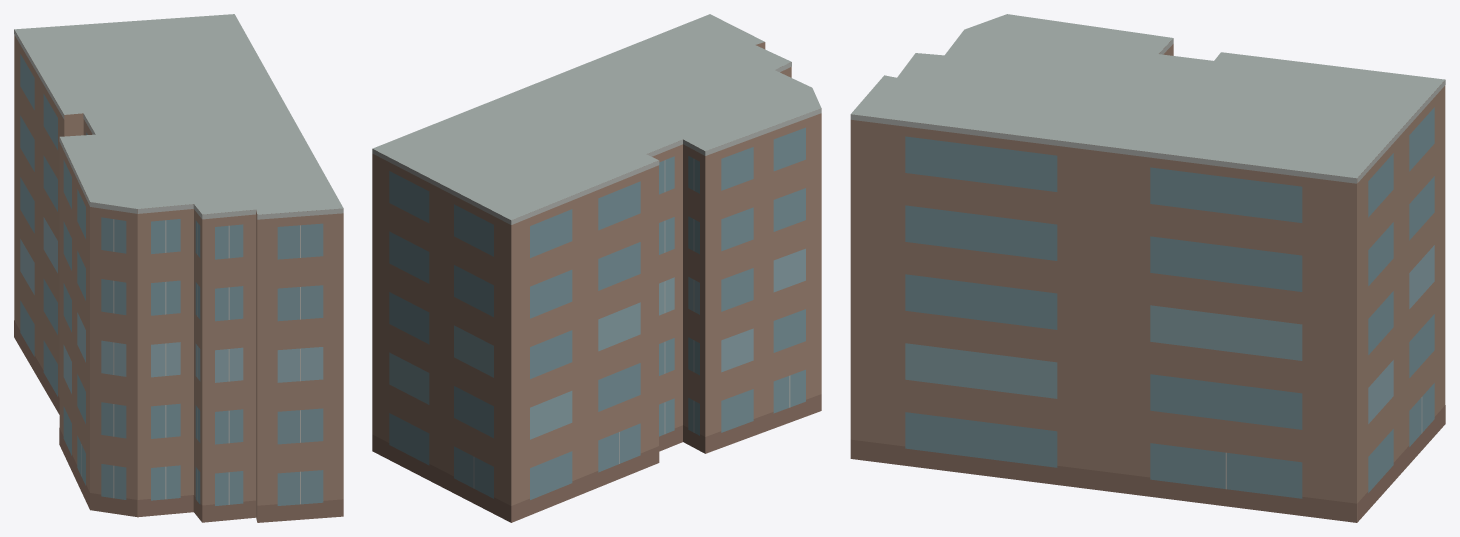
Rendered from survey-upis-32875470.glb.
3 renders of one model, left to right at view 1: azimuth 30°, elevation 25°; view 2: azimuth 150°, elevation 25°; view 3: azimuth 270°, elevation 25°, orthographic. The views are drawn at different scales.
Visible parts, largest first — view 1: survey-upis-32875470.tmp; view 2: survey-upis-32875470.tmp; view 3: survey-upis-32875470.tmp.
Part boxes in pixels (bbox=[...]): survey-upis-32875470.tmp: bbox=[14, 14, 343, 522]; survey-upis-32875470.tmp: bbox=[372, 14, 821, 522]; survey-upis-32875470.tmp: bbox=[850, 14, 1445, 522].
Bounding box in the file's own units: 15.71 × 15.35 × 24.02.
